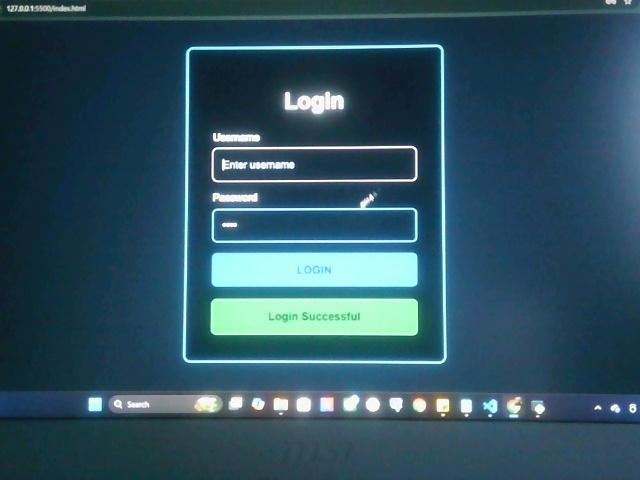login_button: (211, 252, 418, 288)
login_form: (184, 45, 448, 366)
password_input: (212, 207, 419, 245)
success_alert: (209, 298, 419, 336)
title_text: (282, 89, 346, 116)
username_input: (211, 145, 419, 183)
